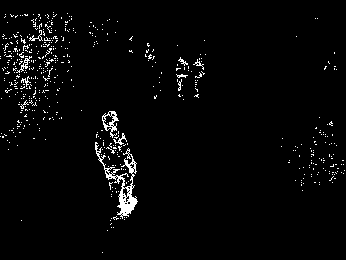person: (95, 111, 139, 222), (175, 57, 189, 98), (193, 59, 205, 95)
